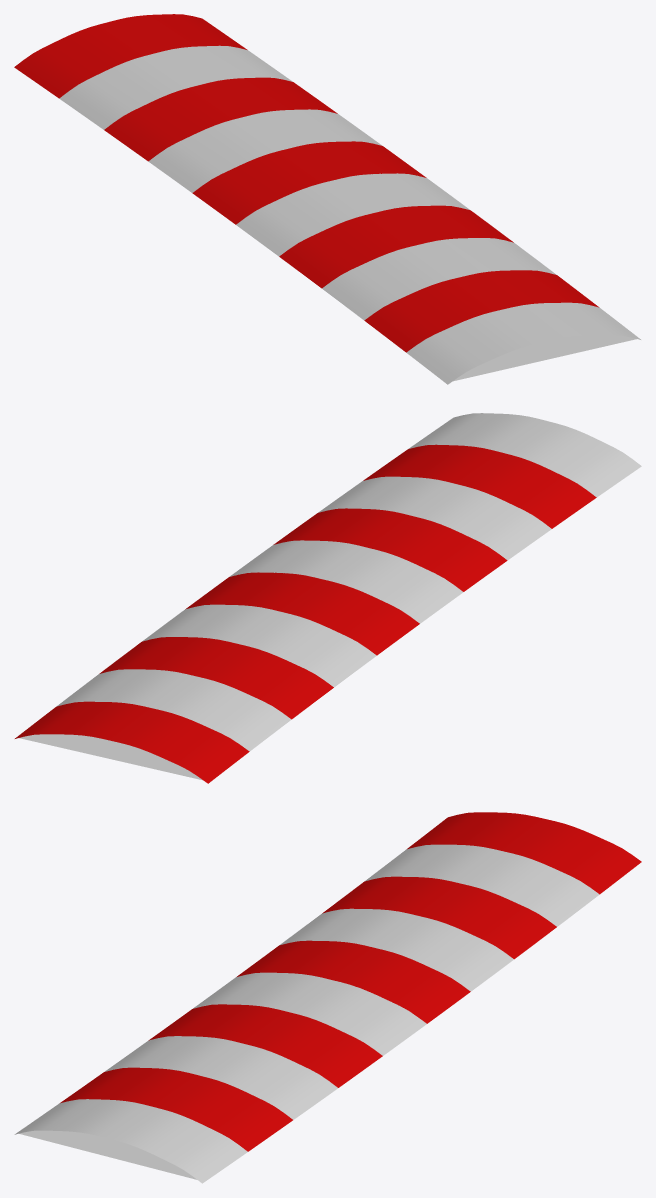
The model's file is right_curb_ultra_min.dae.
3 renders of one model, top to bottom at view 1: azimuth 30°, elevation 25°; view 2: azimuth 150°, elevation 25°; view 3: azimuth 330°, elevation 25°, orthographic.
Parts seen in each view (by area): view 1: pPlane1, pPlane4, pPlane2; view 2: pPlane4, pPlane1, pPlane3; view 3: pPlane4, pPlane1, pPlane2.
Boxes of the visible parts, x1,y1,x2,y2 form: pPlane1: (236,173,640,384); pPlane4: (14,14,426,224); pPlane2: (453,335,636,381); pPlane4: (15,572,419,783); pPlane1: (229,413,641,623); pPlane3: (19,734,202,780); pPlane4: (237,812,641,1023); pPlane1: (14,972,426,1183); pPlane2: (19,1130,196,1179).
Size of the model in its own units: 1.03 by 0.104 by 3.99.
